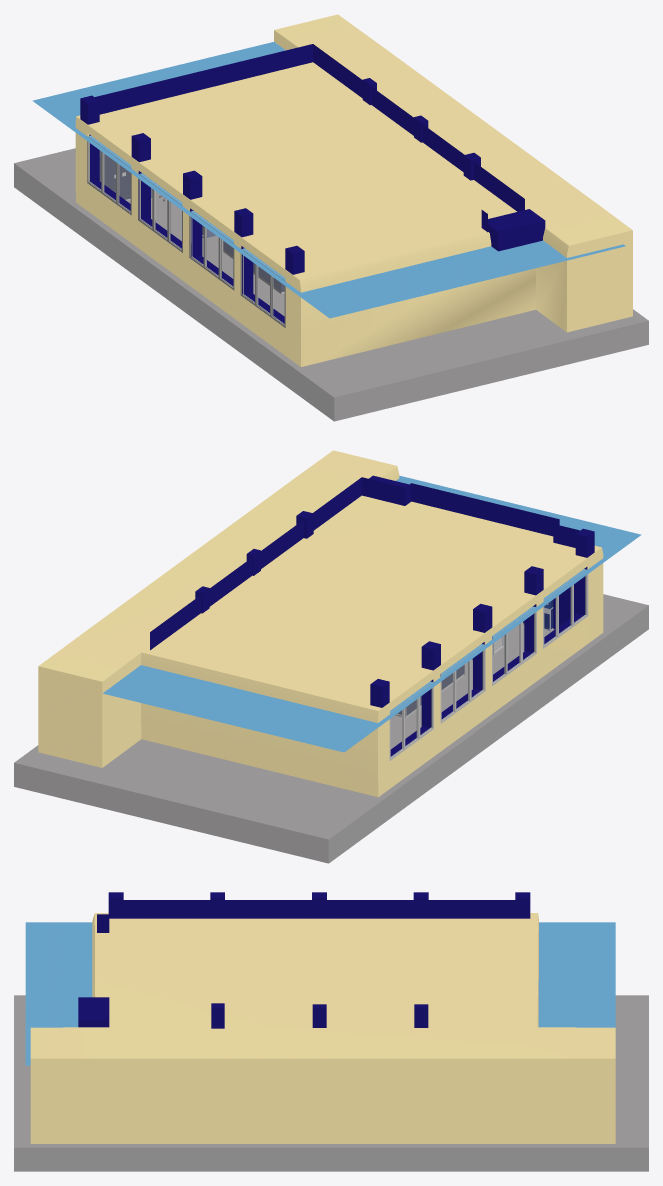
Rendered from lab-compressed.glb.
The picture shows the model from 3 angles, top to bottom: view 1: azimuth 30°, elevation 25°; view 2: azimuth 150°, elevation 25°; view 3: azimuth 270°, elevation 25°; orthographic projection.
Visible parts, largest first — view 1: model_0, model_2; view 2: model_0, model_2; view 3: model_0.
Part boxes in pixels (x1,y1,x2,y2): model_0: (14,14,648,421); model_2: (87,136,285,327); model_0: (14,450,648,863); model_2: (389,569,588,760); model_0: (14,892,648,1171).
Bounding box in the file's own units: 11.54 × 4.59 × 20.32.
Materials: 1 (1 with a texture image).
